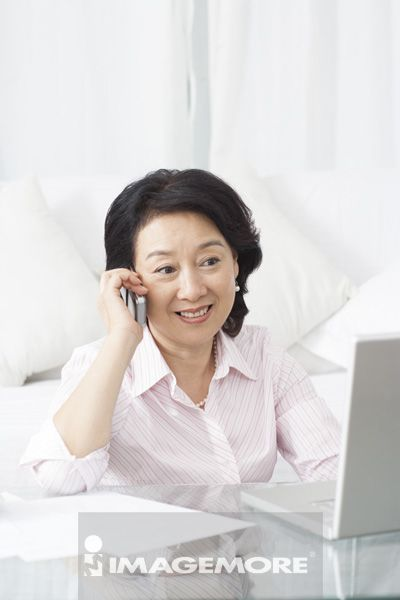phone: (120, 277, 150, 333)
talk: (95, 226, 231, 362)
